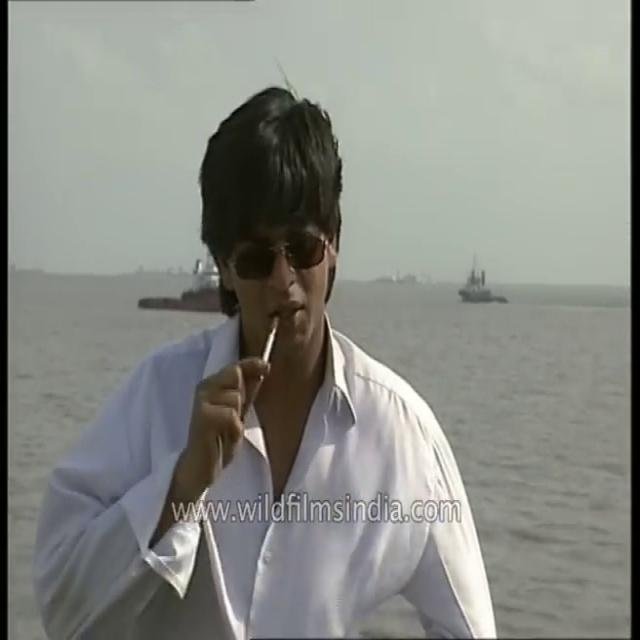Smooking: (259, 308, 287, 368)
